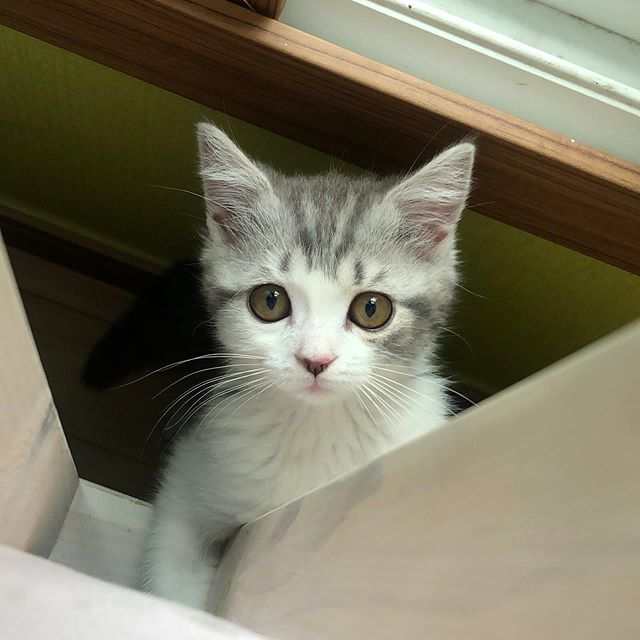cat: (181, 117, 477, 413)
